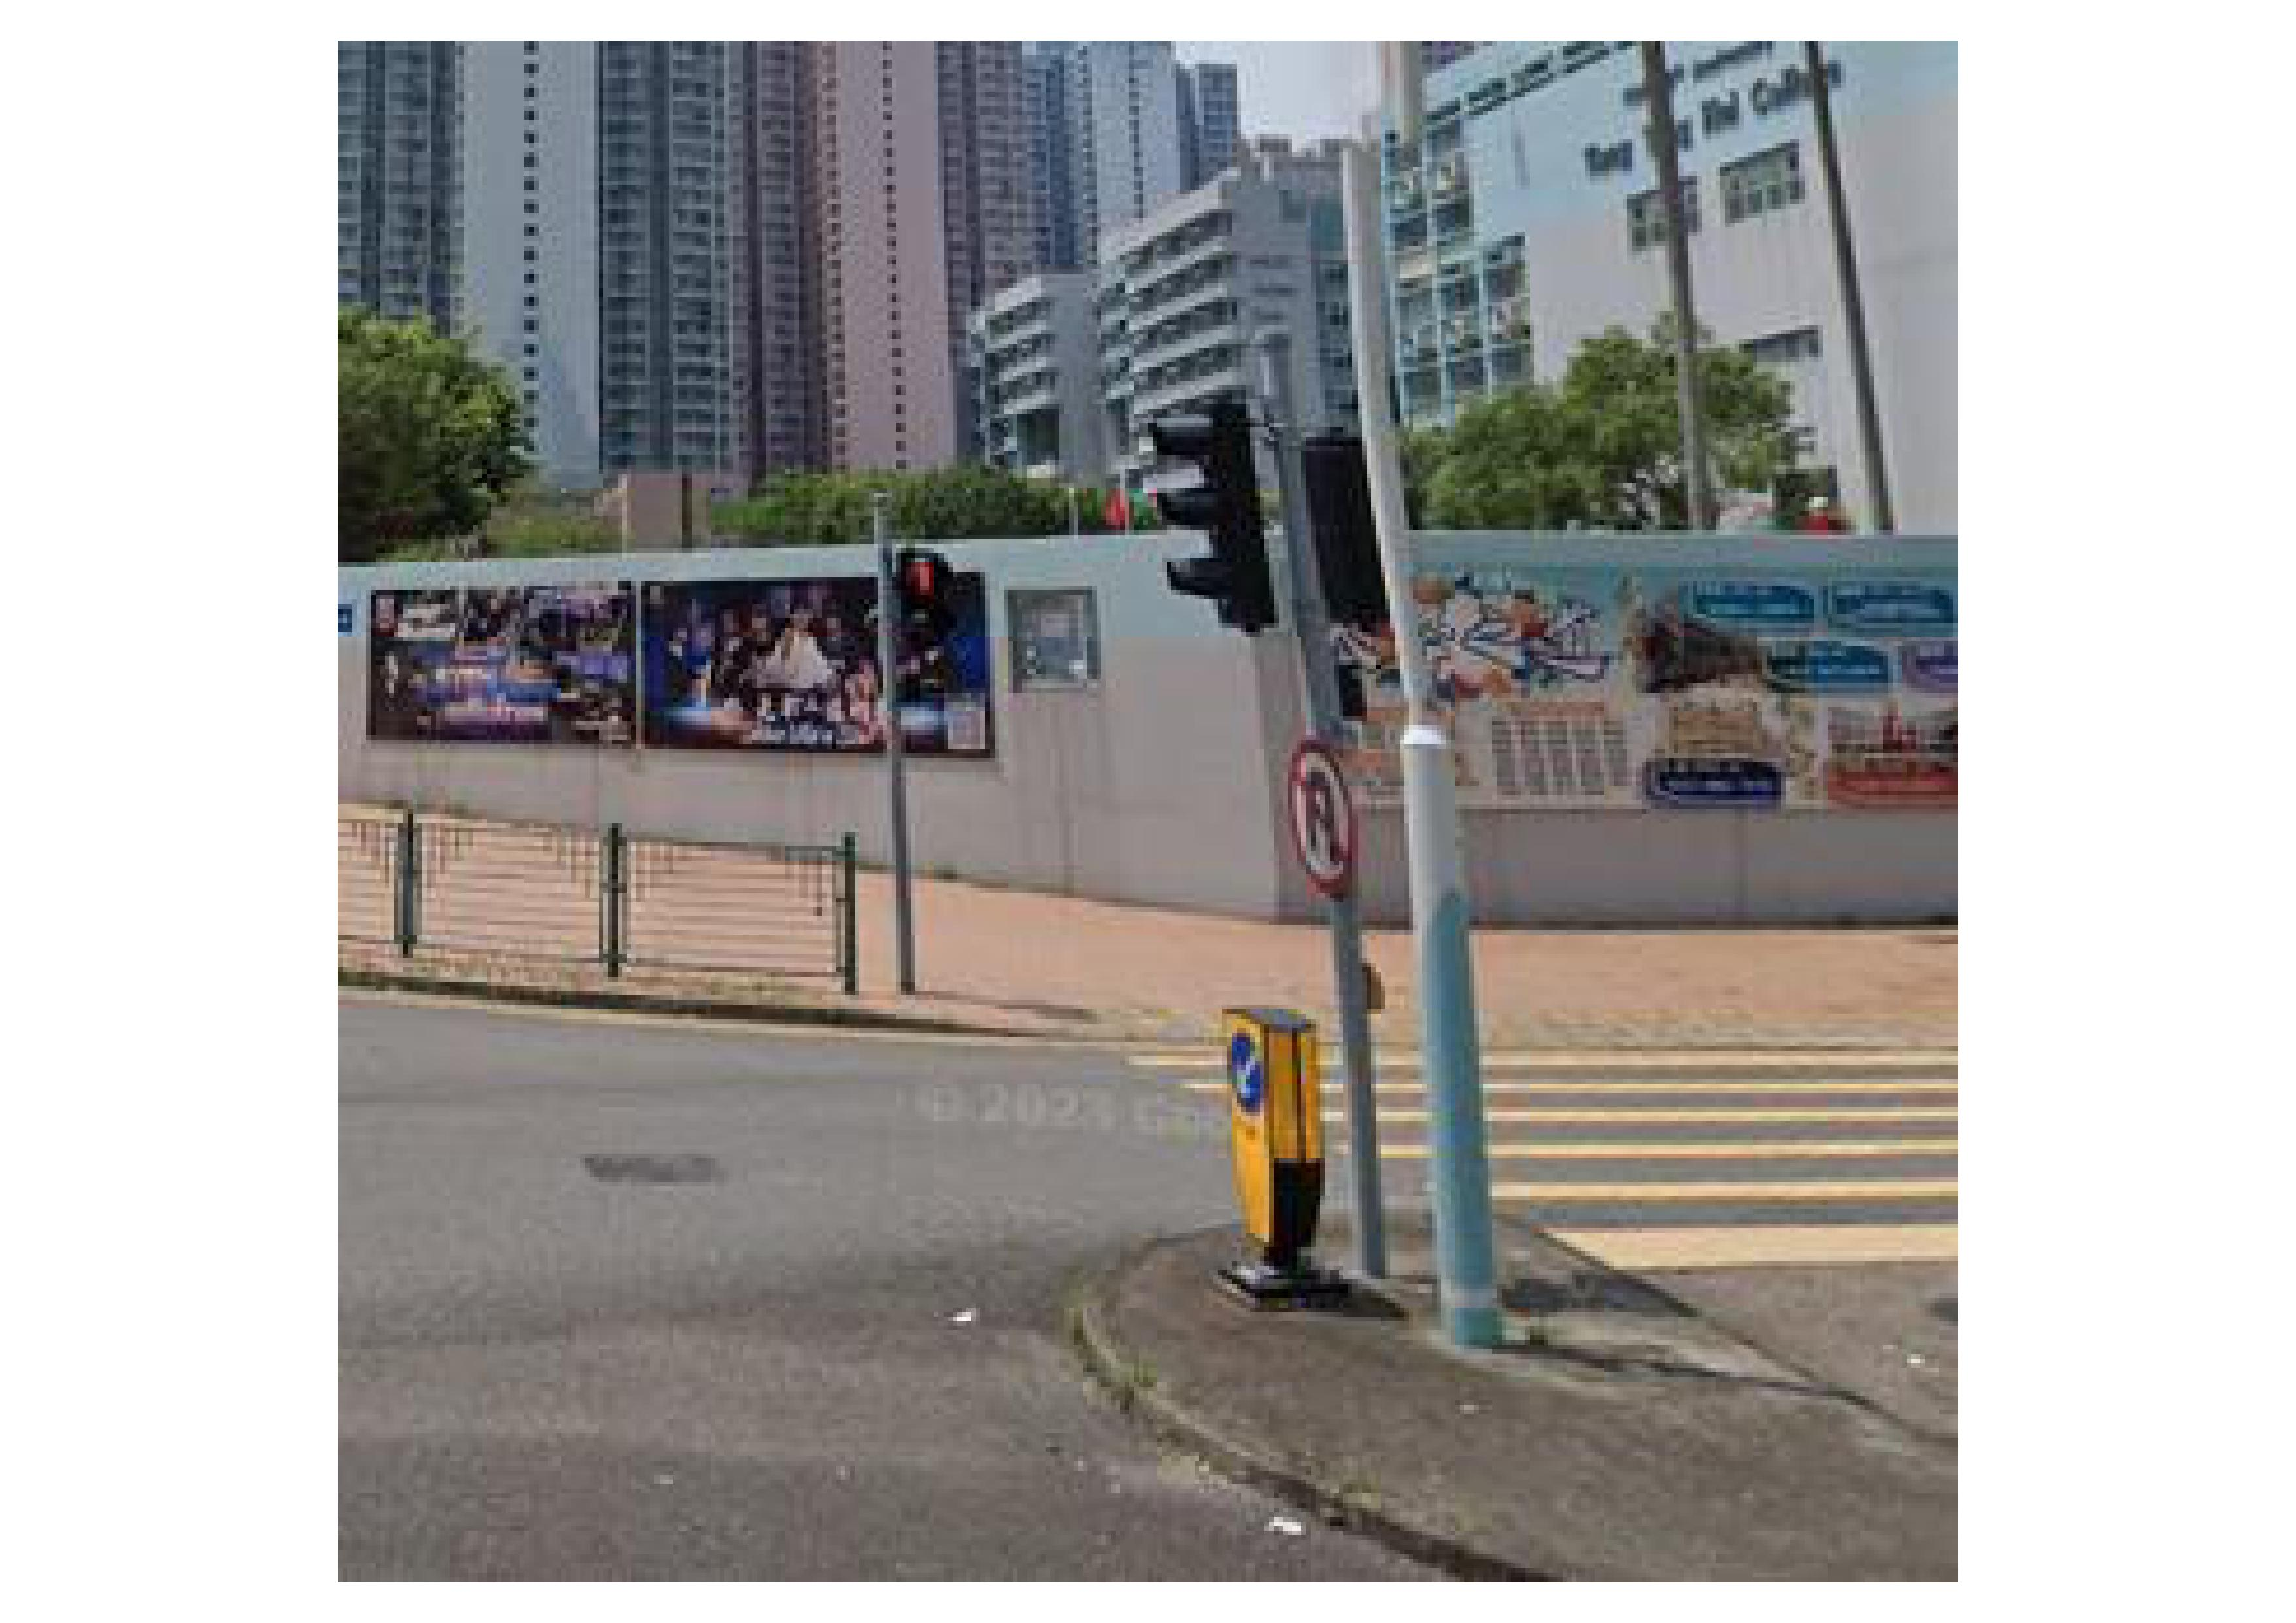No Uturn: (1281, 743, 1357, 894)
